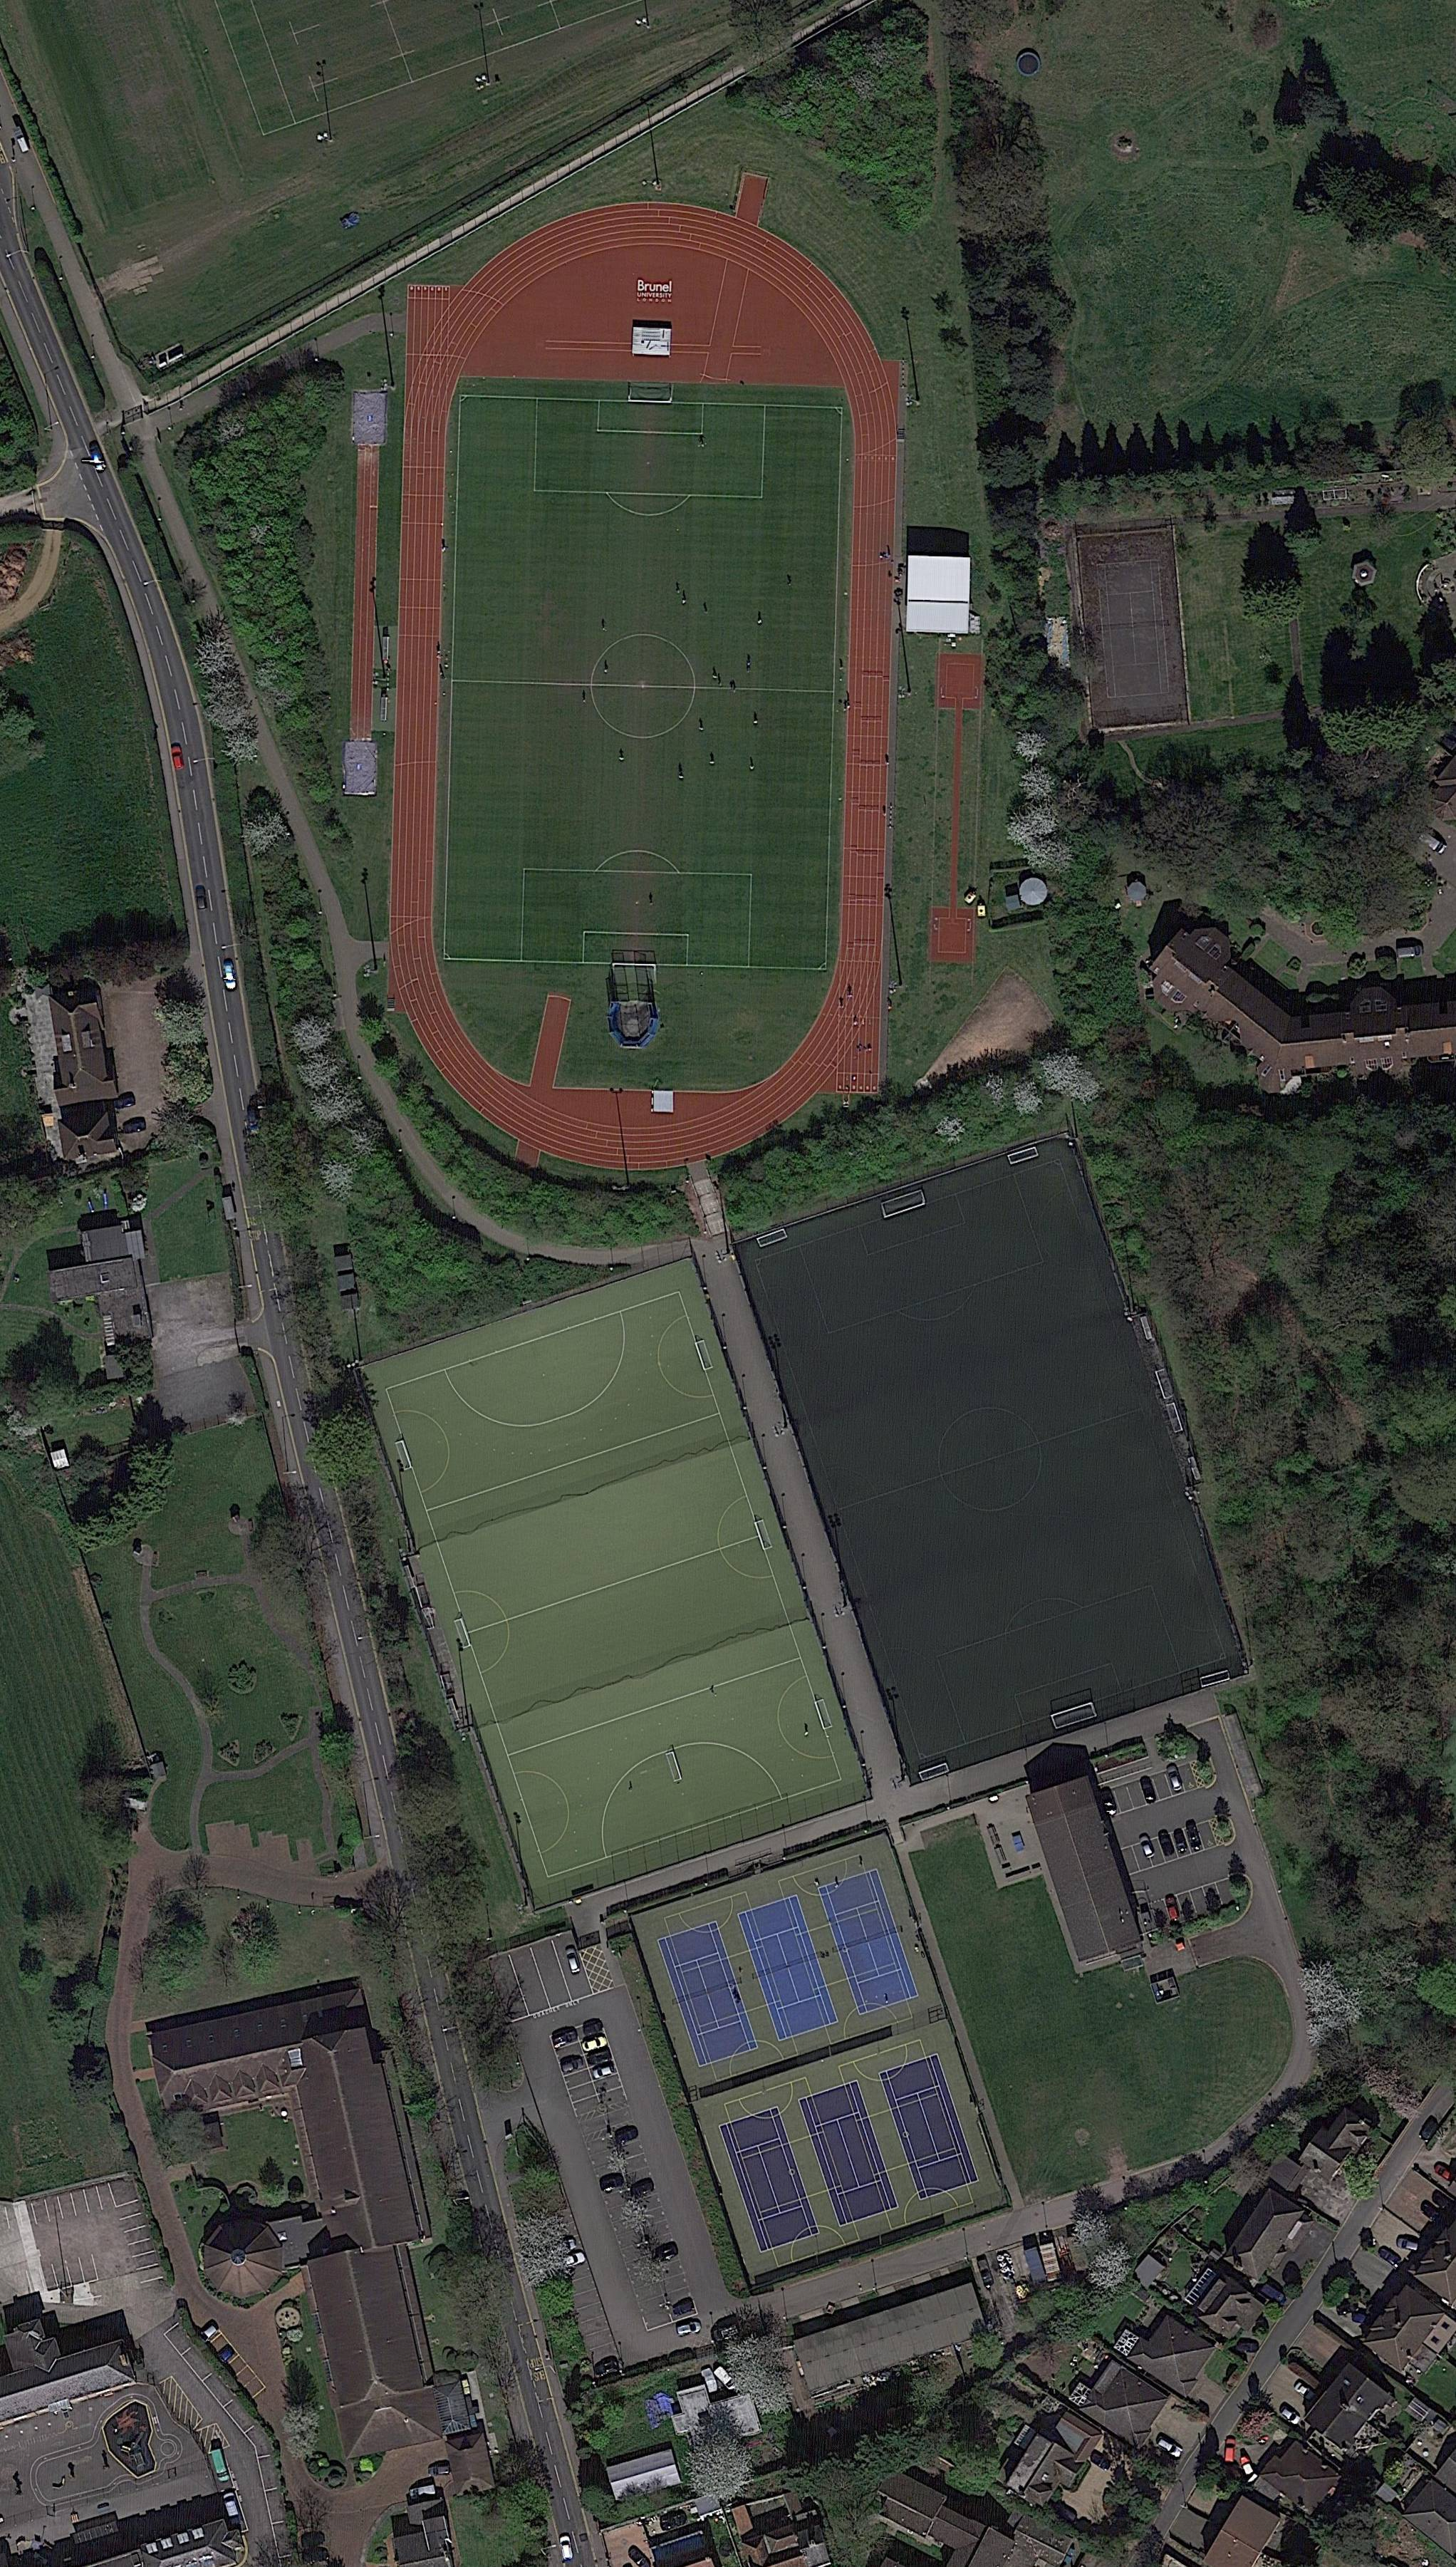ground track field: (381, 201, 906, 1174)
large vehicle: (208, 2449, 231, 2484)
small vehicle: (1139, 1774, 1158, 1804), (1294, 2380, 1319, 2403), (580, 2033, 608, 2052), (675, 2318, 703, 2338), (1100, 1788, 1119, 1816), (197, 2322, 220, 2345), (1158, 2437, 1183, 2458), (564, 1946, 582, 1975), (1167, 1765, 1185, 1793), (1156, 1830, 1176, 1855), (1139, 1835, 1156, 1860), (559, 2535, 575, 2562), (1280, 2407, 1301, 2426), (561, 2057, 583, 2075), (171, 744, 185, 770), (592, 2065, 617, 2079), (217, 2345, 234, 2364), (1396, 2237, 1419, 2251), (1165, 1897, 1179, 1920), (1223, 2438, 1236, 2463), (196, 885, 206, 910), (430, 2467, 449, 2475)
soccer ball field: (732, 1127, 1253, 1788), (444, 391, 846, 973), (384, 1289, 723, 1513), (508, 1657, 843, 1879)
tennis court: (735, 1894, 839, 2043), (717, 2105, 821, 2255), (657, 1918, 760, 2070), (880, 2052, 982, 2202), (818, 1869, 920, 2017), (799, 2080, 901, 2228), (1096, 559, 1170, 700)
